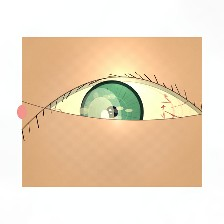corneal_ulcer: (74, 92, 128, 135)
